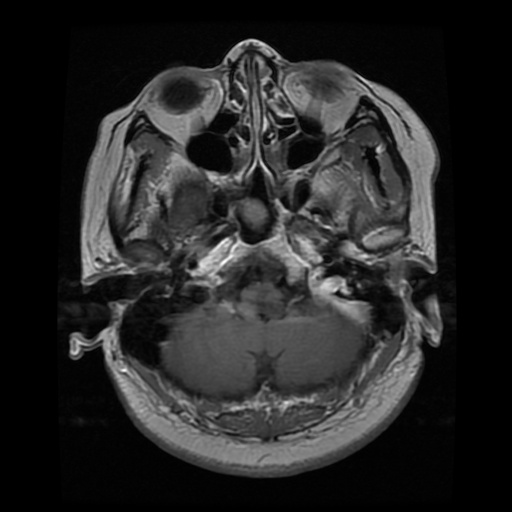pituitary: (236, 195, 268, 227)
